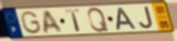A: (43, 9, 65, 35), (116, 6, 138, 31)
G: (19, 10, 43, 35)
J: (138, 6, 155, 30)
Q: (87, 7, 111, 33)
T: (64, 8, 83, 33)
